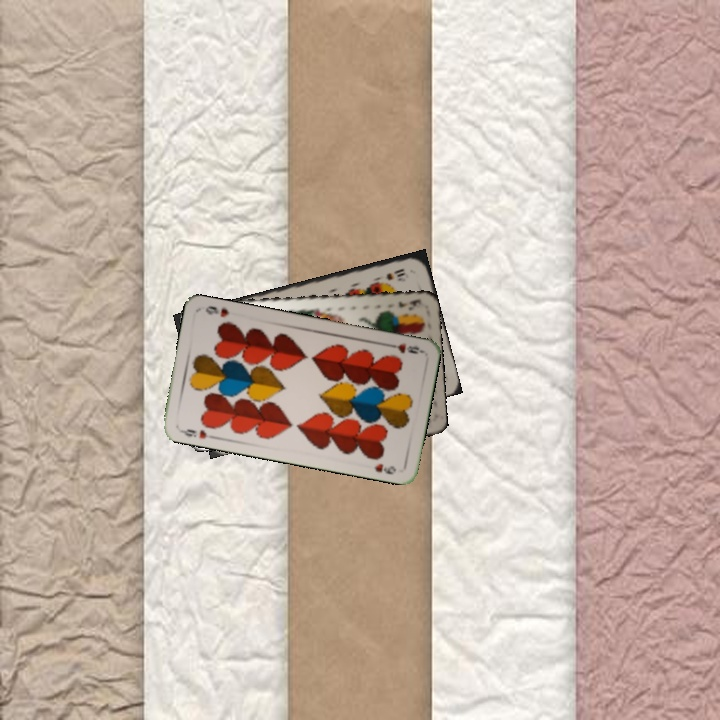EK: (395, 294, 423, 311)
H9: (384, 339, 424, 356), (176, 425, 216, 441)
S10: (381, 264, 408, 282)
